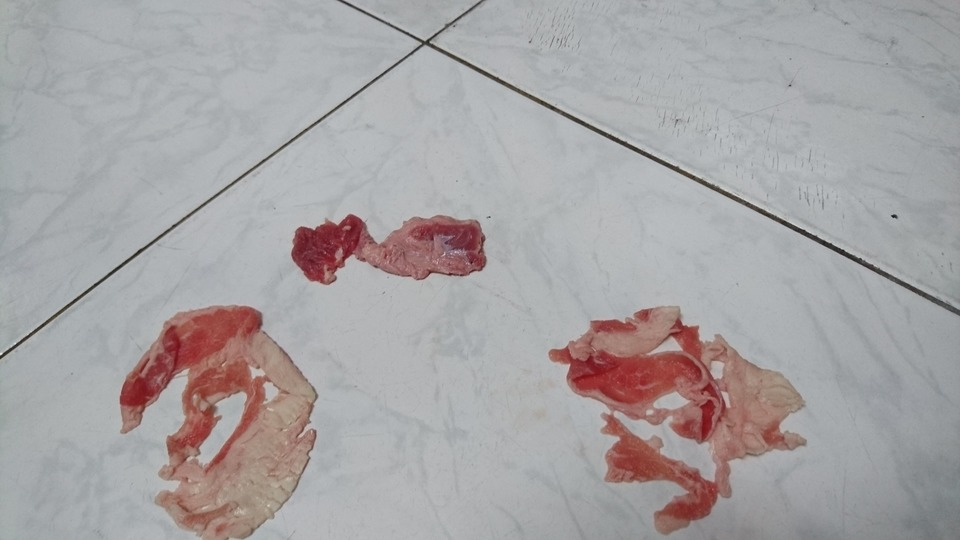restructured meat: (547, 285, 820, 536), (116, 285, 316, 540), (285, 208, 484, 295)
